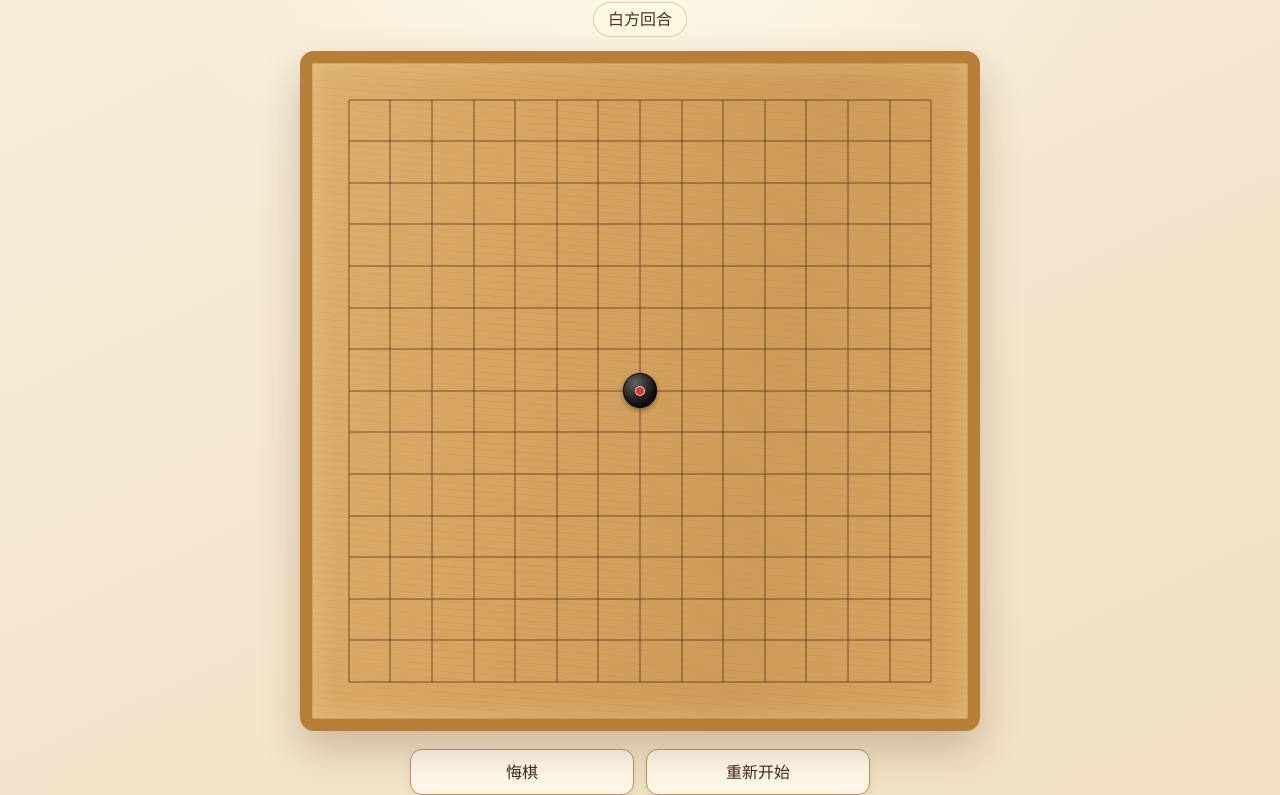
Test: GomokuPage › 确认重新开始清空棋局、清除存档并关闭弹窗
(page scrolled)
Click the button "重新开始". click: click(758, 772)
box: [646,749,870,794]
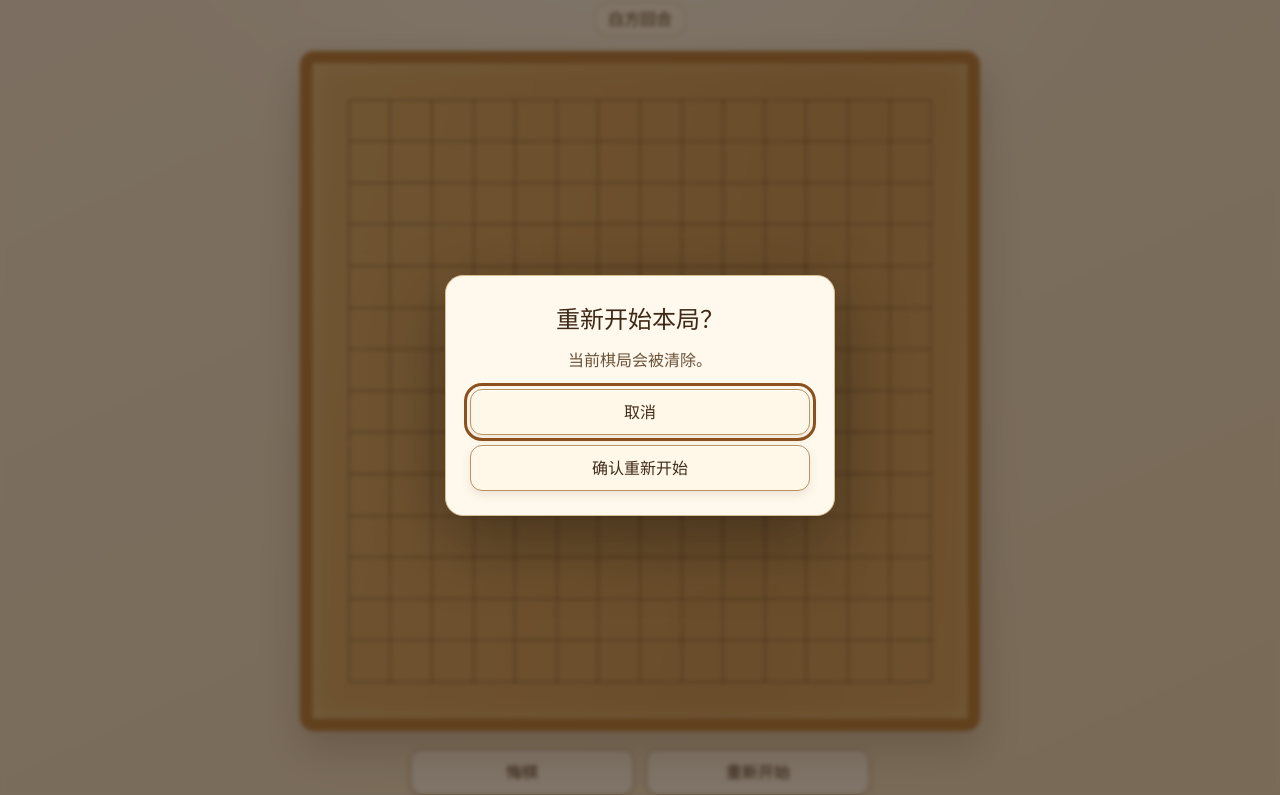
Click the button "确认重新开始". click: click(640, 468)
box: [470,444,810,490]
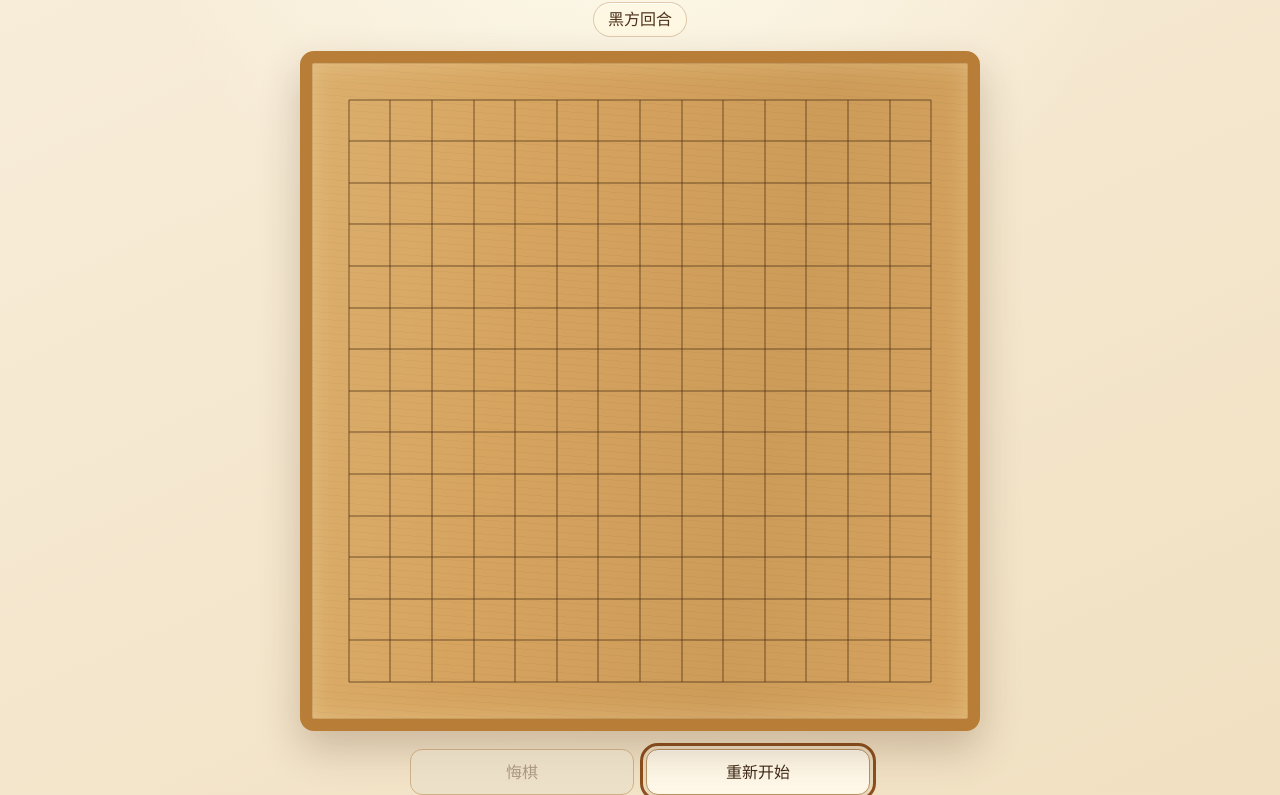
Expected: the dialog is gone
Expected: the button named "第 8 行第 8 列，空位" is enabled, [619,370,661,412]
Expected: the button "悔棋" is disabled, [410,749,634,794]
